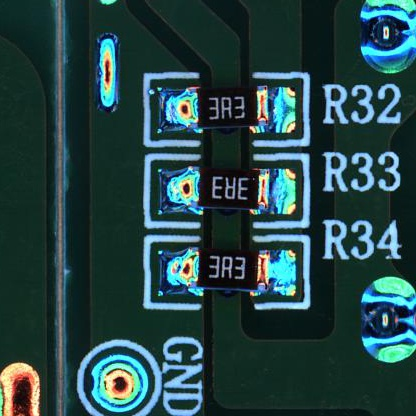spot: (86, 352, 151, 410)
